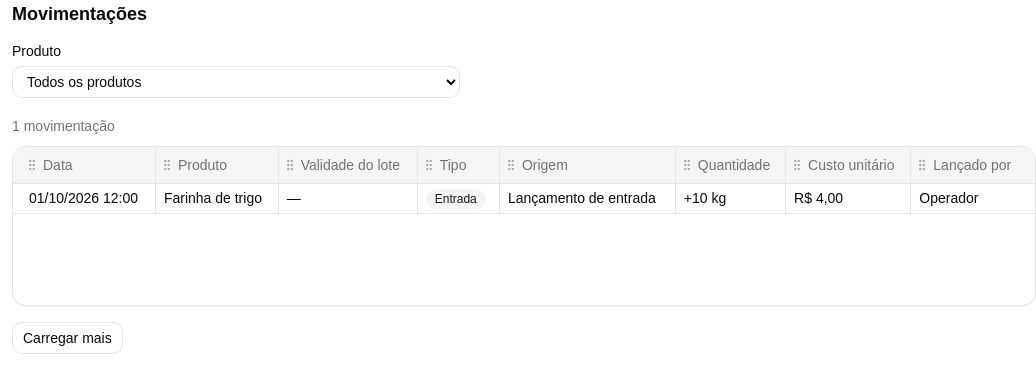
StockMovementsPage › loads the older movements on request, until there are no more
The width and height of the screenshot is (1036, 371).
Click the button "Carregar mais" at (67, 338), box [12,322,123,354]
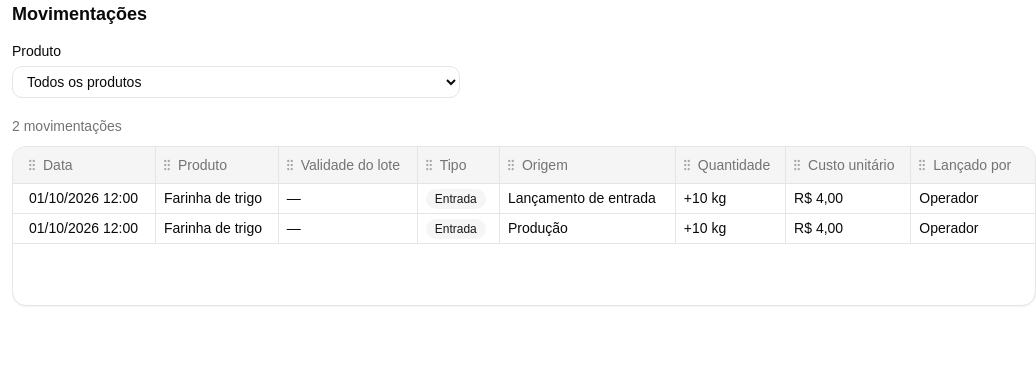
Expected: the text "Lançamento de entrada" is shown, [499,183,675,213]
Result: the text "Produção" is shown at [499,213,675,243]
Result: the button "Carregar mais" is gone
